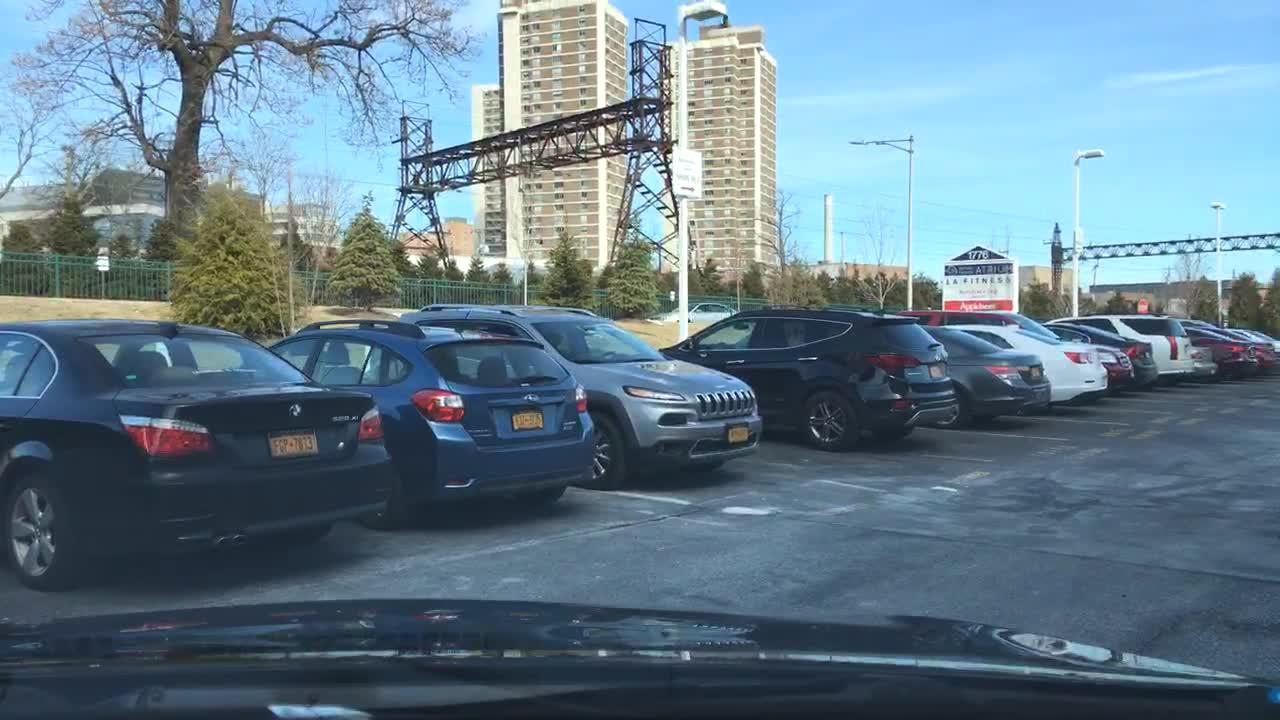bmw: (278, 394, 312, 427)
jeep: (712, 380, 730, 393)
subaru: (522, 393, 543, 404)
